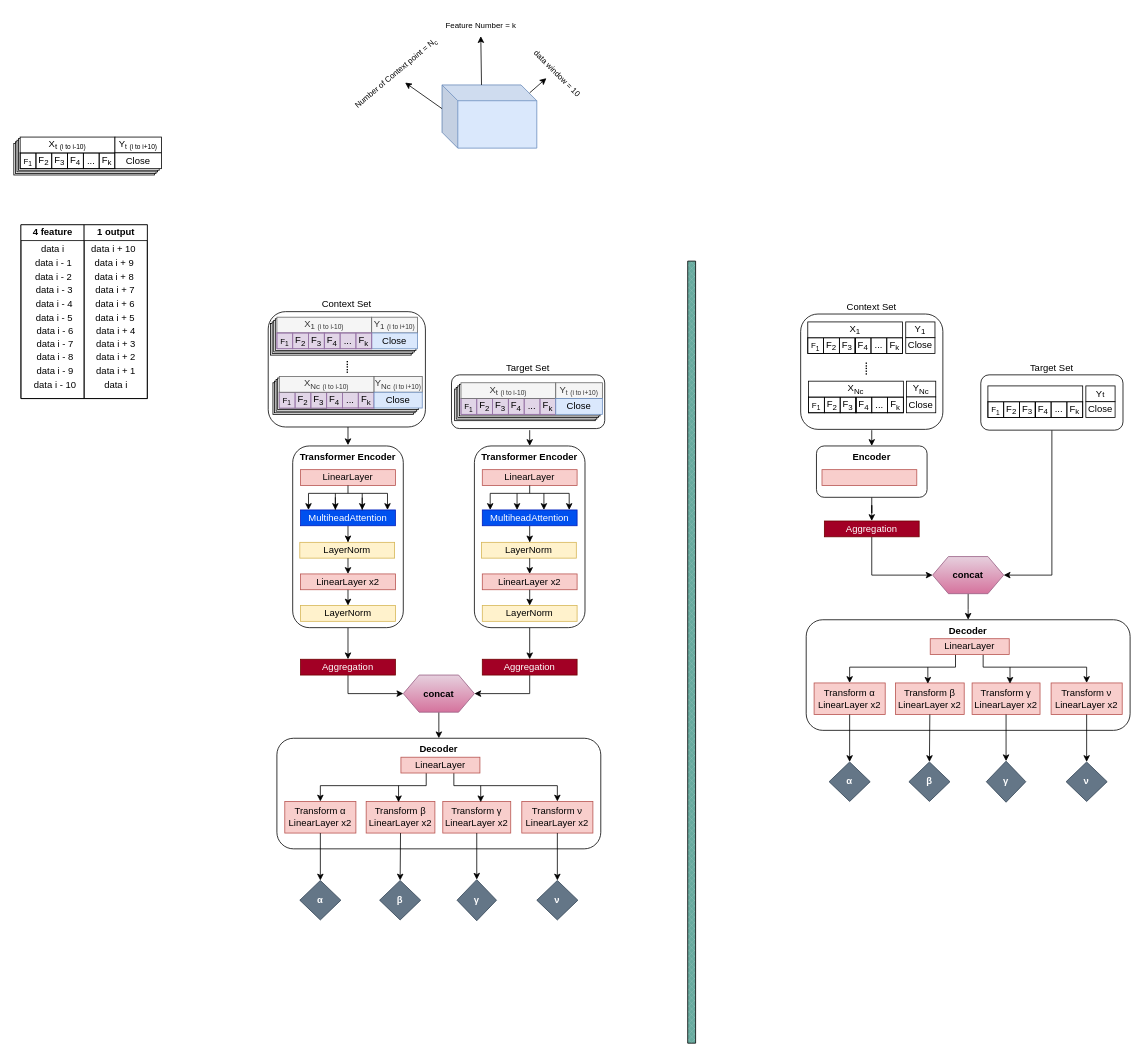
This 1144x1057 diagram has some shape labels left out. Here are the shapes that lost their labels. From the top down, the centre of each, then its label:
At (x=1035, y=393): "X t".
At (x=869, y=477): "LinearLayer x5".
